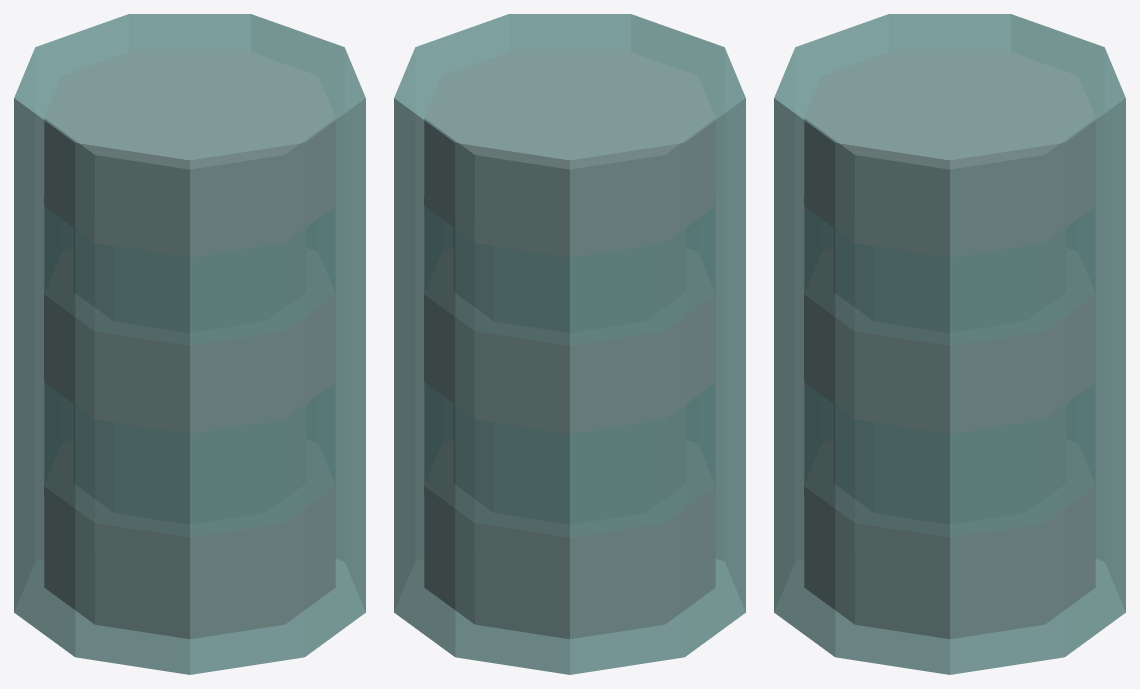
File: power cell.fbx
The picture shows the model from 3 angles, left to right: view 1: azimuth 30°, elevation 25°; view 2: azimuth 150°, elevation 25°; view 3: azimuth 270°, elevation 25°; orthographic projection.
Visible parts, largest first — view 1: pCylinder8; view 2: pCylinder8; view 3: pCylinder8.
Boxes of the visible parts, left/top/right/bottom form: pCylinder8: left=14, top=14, right=365, bottom=674; pCylinder8: left=394, top=14, right=745, bottom=674; pCylinder8: left=774, top=14, right=1125, bottom=674.
Bounding box in the file's own units: 0.5997 × 0.9826 × 0.6089.
